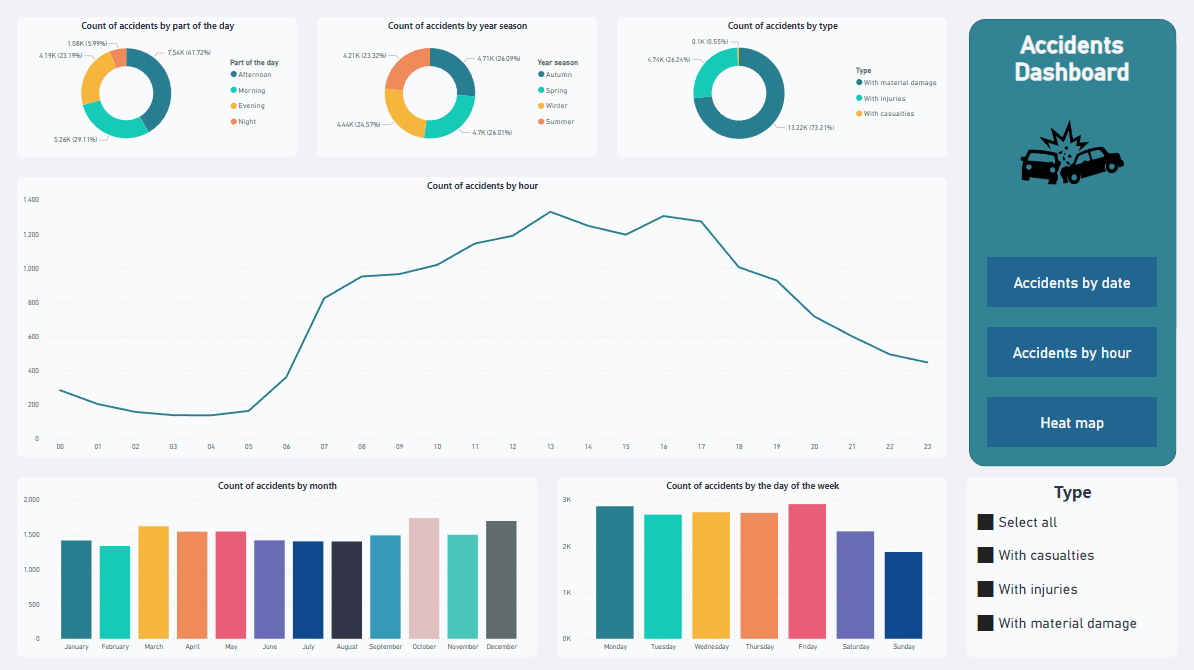

The page's visual inventory and layout, read from the dashboard file:
{"tool":"powerbi","page":{"name":"Page 1","canvas":[1920,1080],"ordinal":0},"visuals":[{"type":"donutChart","title":"Count of accidents by type","fields":{"Y":["CountNonNull(Accidents data.Accident number)"],"Category":["Accidents data.Type"]},"box":[992,32,528,224],"z":0},{"type":"columnChart","title":"Count of accidents by the day of the week","fields":{"Category":["DateTable.DayName"],"Y":["CountNonNull(Accidents data.Accident number)"],"Series":["DateTable.DayName"]},"box":[896,768,624,288],"z":2000},{"type":"columnChart","title":"Count of accidents by month","fields":{"Y":["CountNonNull(Accidents data.Accident number)"],"Series":["DateTable.MonthName"],"Category":["DateTable.MonthName"]},"box":[32,768,832,288],"z":3000},{"type":"donutChart","title":"Count of accidents by year season","fields":{"Category":["DateTable.YearSeason"],"Y":["CountNonNull(Accidents data.Accident number)"]},"box":[512,32,448,224],"z":4000},{"type":"donutChart","title":"Count of accidents by part of the day","fields":{"Y":["CountNonNull(Accidents data.Accident number)"],"Category":["TimeTable.PartOfDay"]},"box":[32,32,448,224],"z":5000},{"type":"slicer","title":"Type","fields":{"Values":["Accidents data.Type"]},"box":[1552,768,336,288],"z":7000},{"type":"shape","box":[1552,32,336,720],"z":8000},{"type":"actionButton","box":[1584,416,272,80],"z":9000},{"type":"actionButton","box":[1584,528,272,80],"z":10000},{"type":"actionButton","box":[1584,640,272,80],"z":11000},{"type":"image","box":[1632,176,176,144],"z":12000},{"type":"textbox","box":[1568,48,304,128],"z":13000},{"type":"heatmapF244EA9EE1F34E828A80CF19B41976F8","title":"Heat map of accidents","fields":{"latitude":["Accidents data.Latitude"],"longitude":["Accidents data.Longitude"],"group":["Accidents data.Type"]},"box":[32,288,1488,448],"z":14000}]}

Visuals, with their boxes in screenshot pixels (x1, y1, x2, y2), scaled from the page's 1920x1080 canvas onto the 1194x670 screenshot:
"Count of accidents by type" donutChart: rect(617, 20, 945, 159)
"Count of accidents by the day of the week" columnChart: rect(557, 476, 945, 655)
"Count of accidents by month" columnChart: rect(20, 476, 537, 655)
"Count of accidents by year season" donutChart: rect(318, 20, 597, 159)
"Count of accidents by part of the day" donutChart: rect(20, 20, 298, 159)
"Type" slicer: rect(965, 476, 1174, 655)
shape: rect(965, 20, 1174, 467)
actionButton: rect(985, 258, 1154, 308)
actionButton: rect(985, 328, 1154, 377)
actionButton: rect(985, 397, 1154, 447)
image: rect(1015, 109, 1124, 199)
textbox: rect(975, 30, 1164, 109)
"Heat map of accidents" heatmapF244EA9EE1F34E828A80CF19B41976F8: rect(20, 179, 945, 457)
